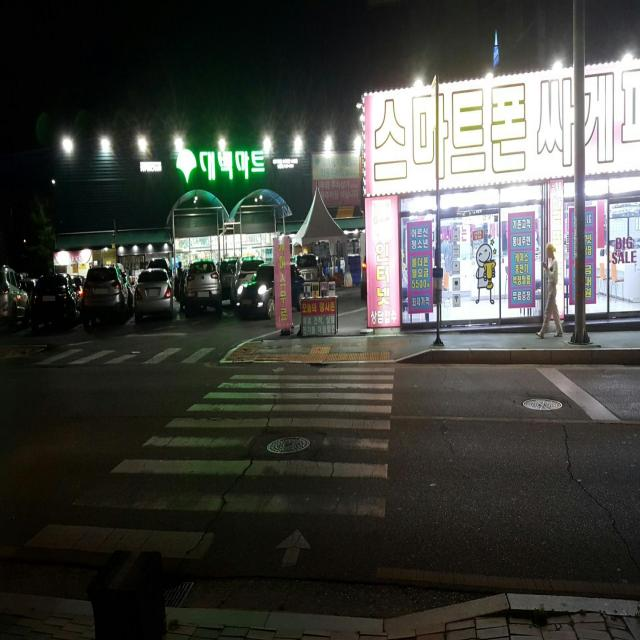횡단보도: (20, 363, 398, 571), (5, 344, 233, 372)
